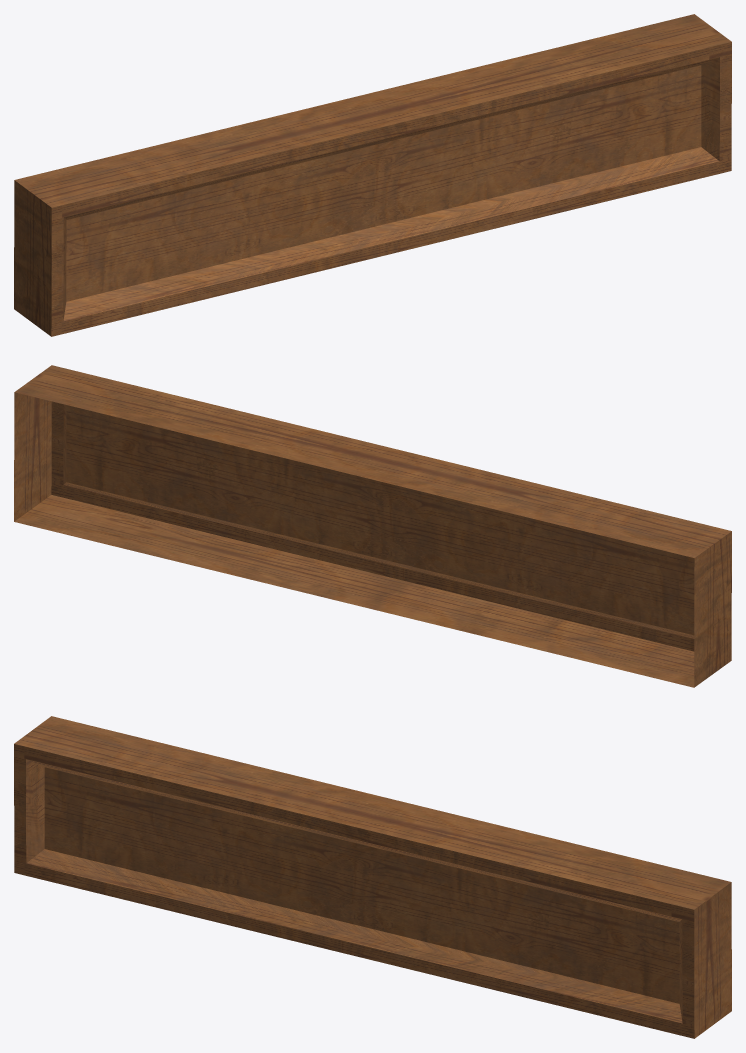
The model's file is StoreCartel_Art.fbx.
3 renders of one model, top to bottom at view 1: azimuth 30°, elevation 25°; view 2: azimuth 150°, elevation 25°; view 3: azimuth 330°, elevation 25°, orthographic.
Parts seen in each view (by area): view 1: StoreCartel_Art; view 2: StoreCartel_Art; view 3: StoreCartel_Art.
Part boxes in pixels (x1,y1,x2,y2): StoreCartel_Art: (14, 14, 731, 336); StoreCartel_Art: (14, 365, 731, 687); StoreCartel_Art: (14, 716, 731, 1038).
Bounding box in the file's own units: 5.51 × 1 × 0.5308.
